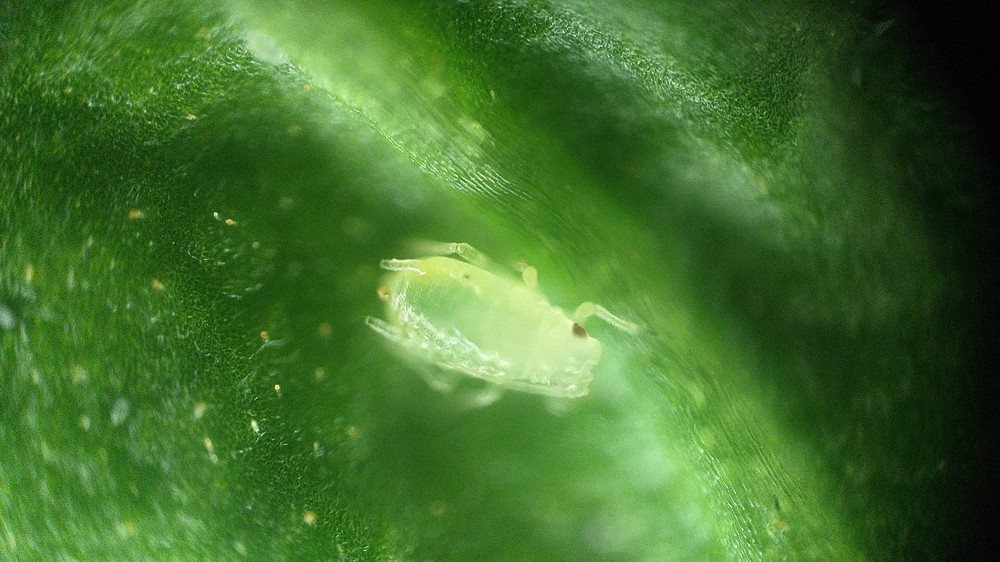Pulgon: (354, 223, 659, 439)
